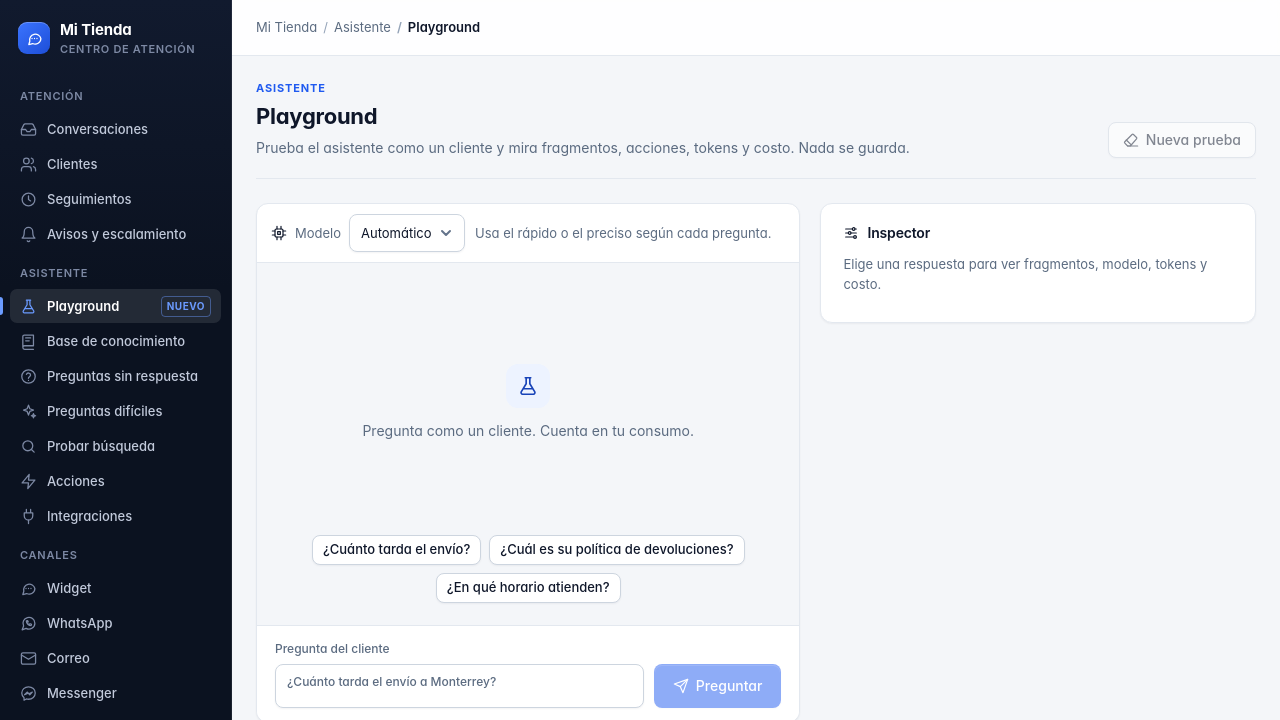
Test: Playground › says when the plan has no answers left
The width and height of the screenshot is (1280, 720).
In the text box labelled "Pregunta del cliente": (459, 686) [275,664,644,708], type "Hola"
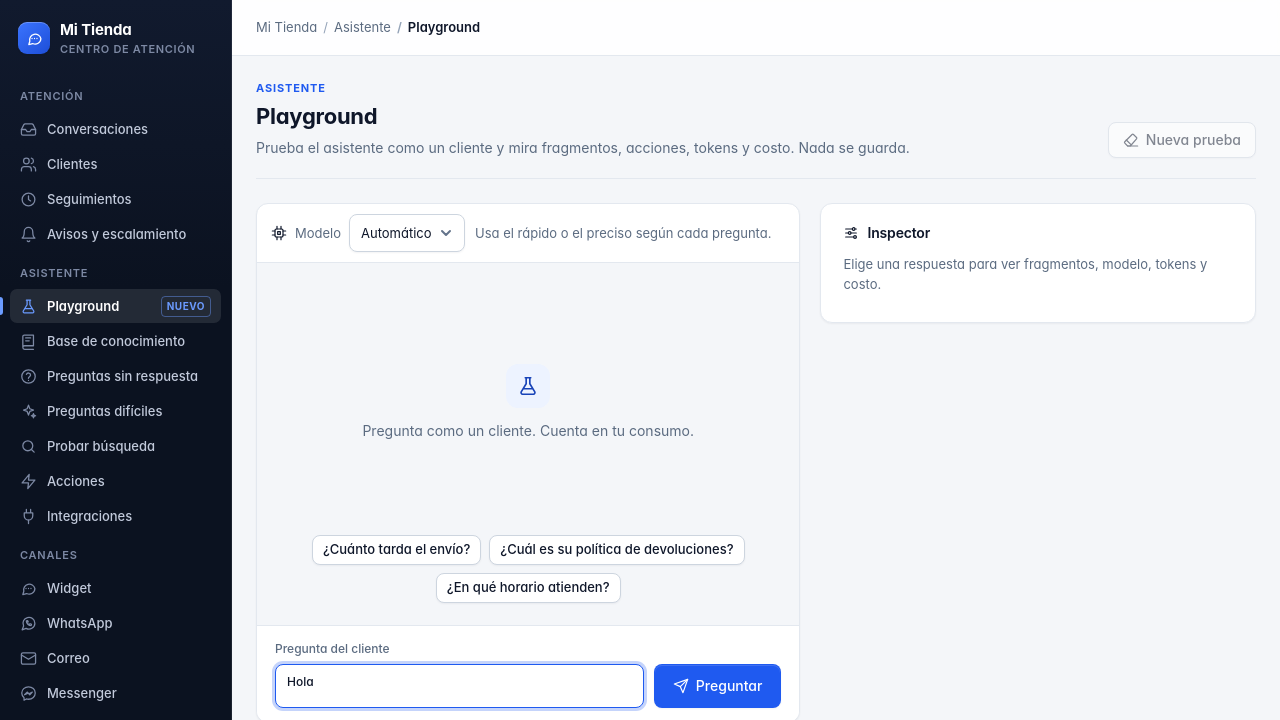
Click the button "Preguntar": (718, 686) [654,664,782,708]
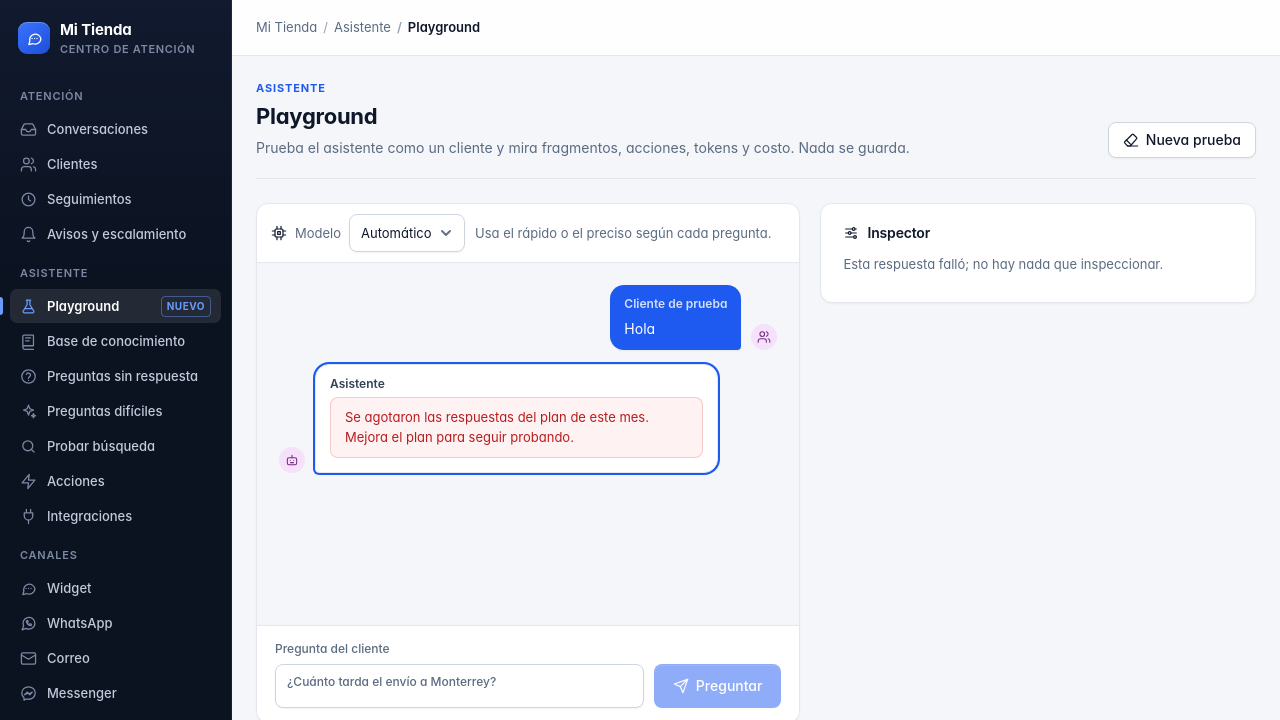
Now the text "Se agotaron las respuestas del plan" is shown, box [345,409,649,445]
